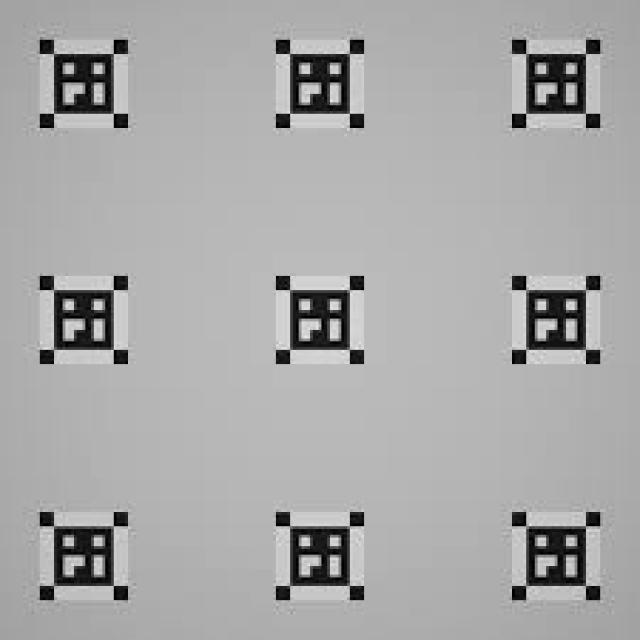aruco: (529, 51, 590, 114), (290, 54, 351, 114), (527, 289, 586, 351), (290, 291, 349, 351), (56, 290, 115, 349), (56, 55, 114, 115), (292, 528, 352, 584), (58, 526, 114, 584), (527, 528, 585, 583)
